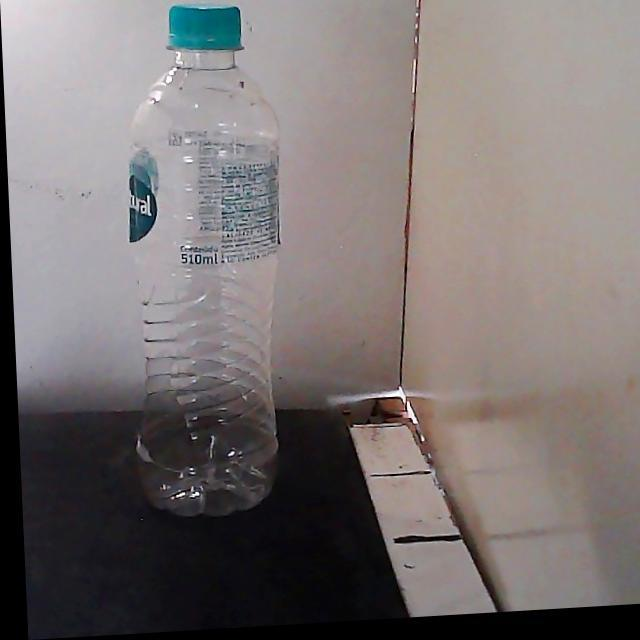plastico: (128, 4, 280, 516)
